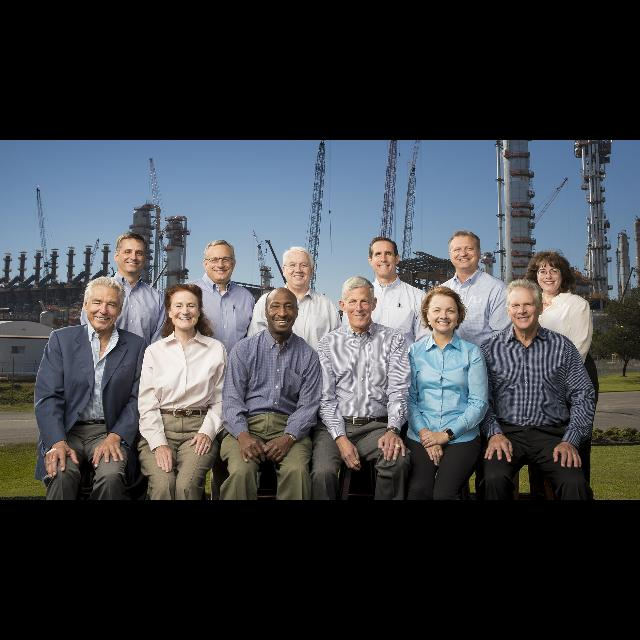head: (338, 277, 378, 329), (84, 278, 124, 330), (504, 282, 544, 331), (264, 287, 300, 333), (167, 285, 203, 331), (426, 288, 459, 334), (203, 240, 237, 284), (114, 232, 148, 274), (534, 252, 566, 296), (283, 246, 315, 288), (368, 236, 400, 278), (448, 231, 482, 269)
